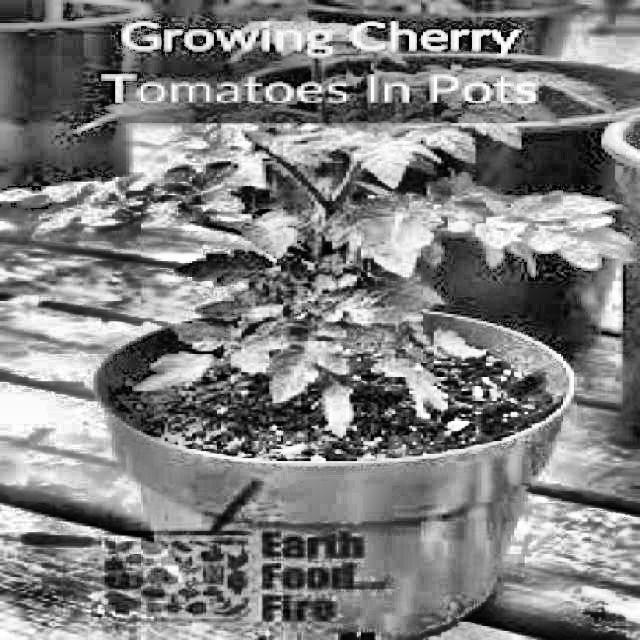plants: (76, 126, 630, 528)
